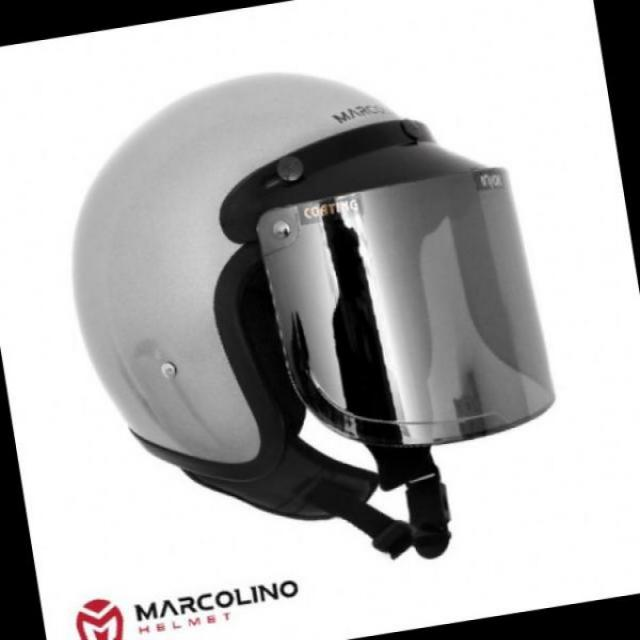Helmet: (64, 64, 562, 562)
